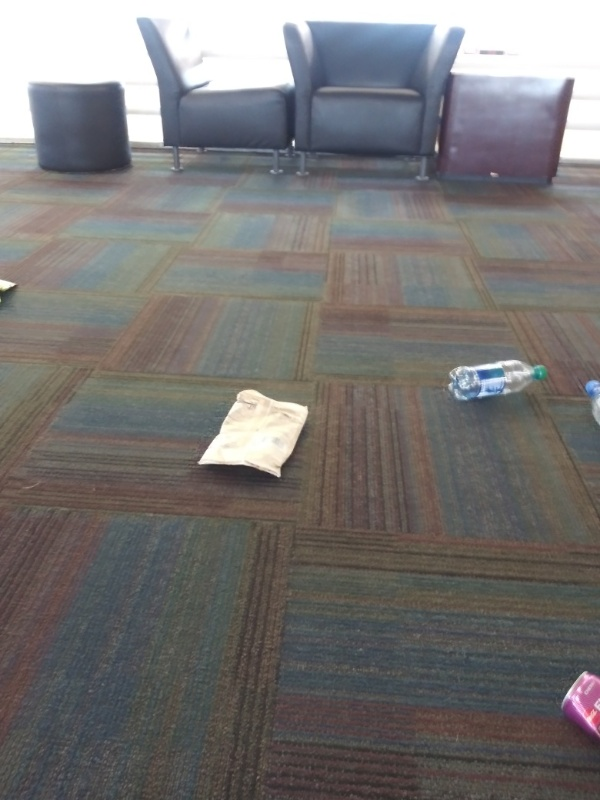bag: (190, 387, 311, 482)
bottle: (443, 354, 553, 403), (582, 377, 600, 431)
can: (554, 664, 600, 752)
